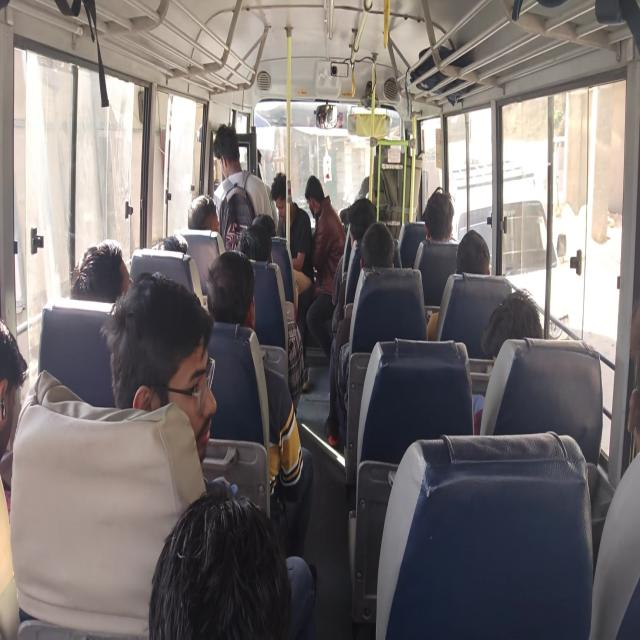person: (100, 269, 316, 636), (205, 249, 314, 556), (148, 483, 315, 639), (100, 270, 217, 464), (588, 297, 640, 639), (325, 220, 395, 447), (472, 288, 544, 434), (0, 317, 28, 638), (212, 123, 276, 251), (300, 175, 346, 353), (326, 197, 376, 352), (426, 228, 491, 340), (270, 171, 313, 295), (480, 288, 544, 362), (70, 239, 130, 303), (421, 187, 456, 243), (455, 229, 491, 275), (236, 224, 272, 262), (187, 194, 220, 232), (152, 232, 188, 253)
